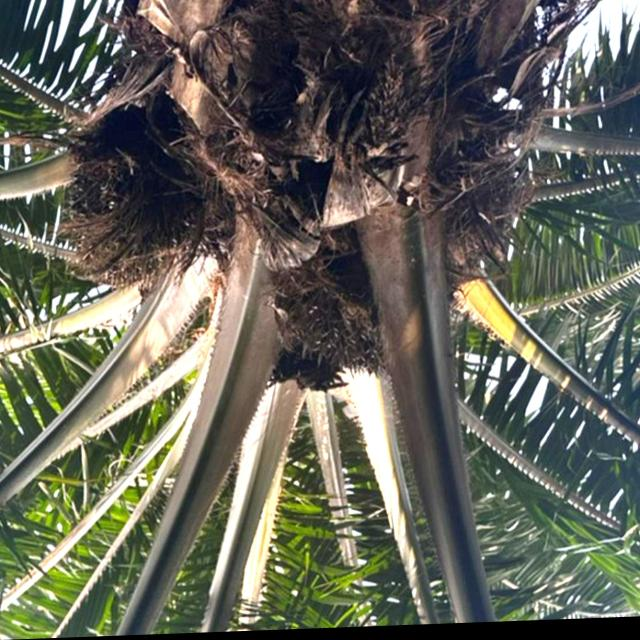ripe: (262, 274, 394, 387)
